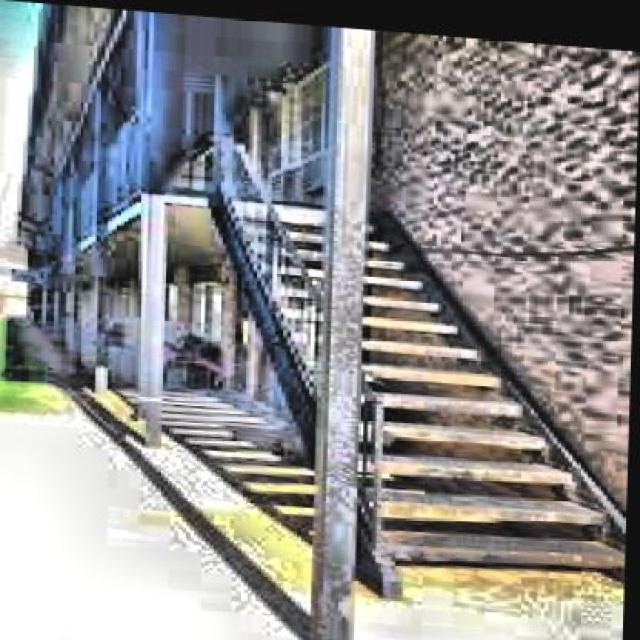stair: (210, 192, 632, 563)
